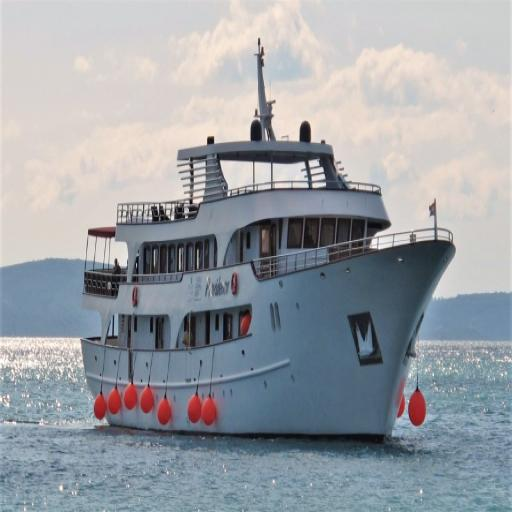cruises: (76, 37, 459, 455)
